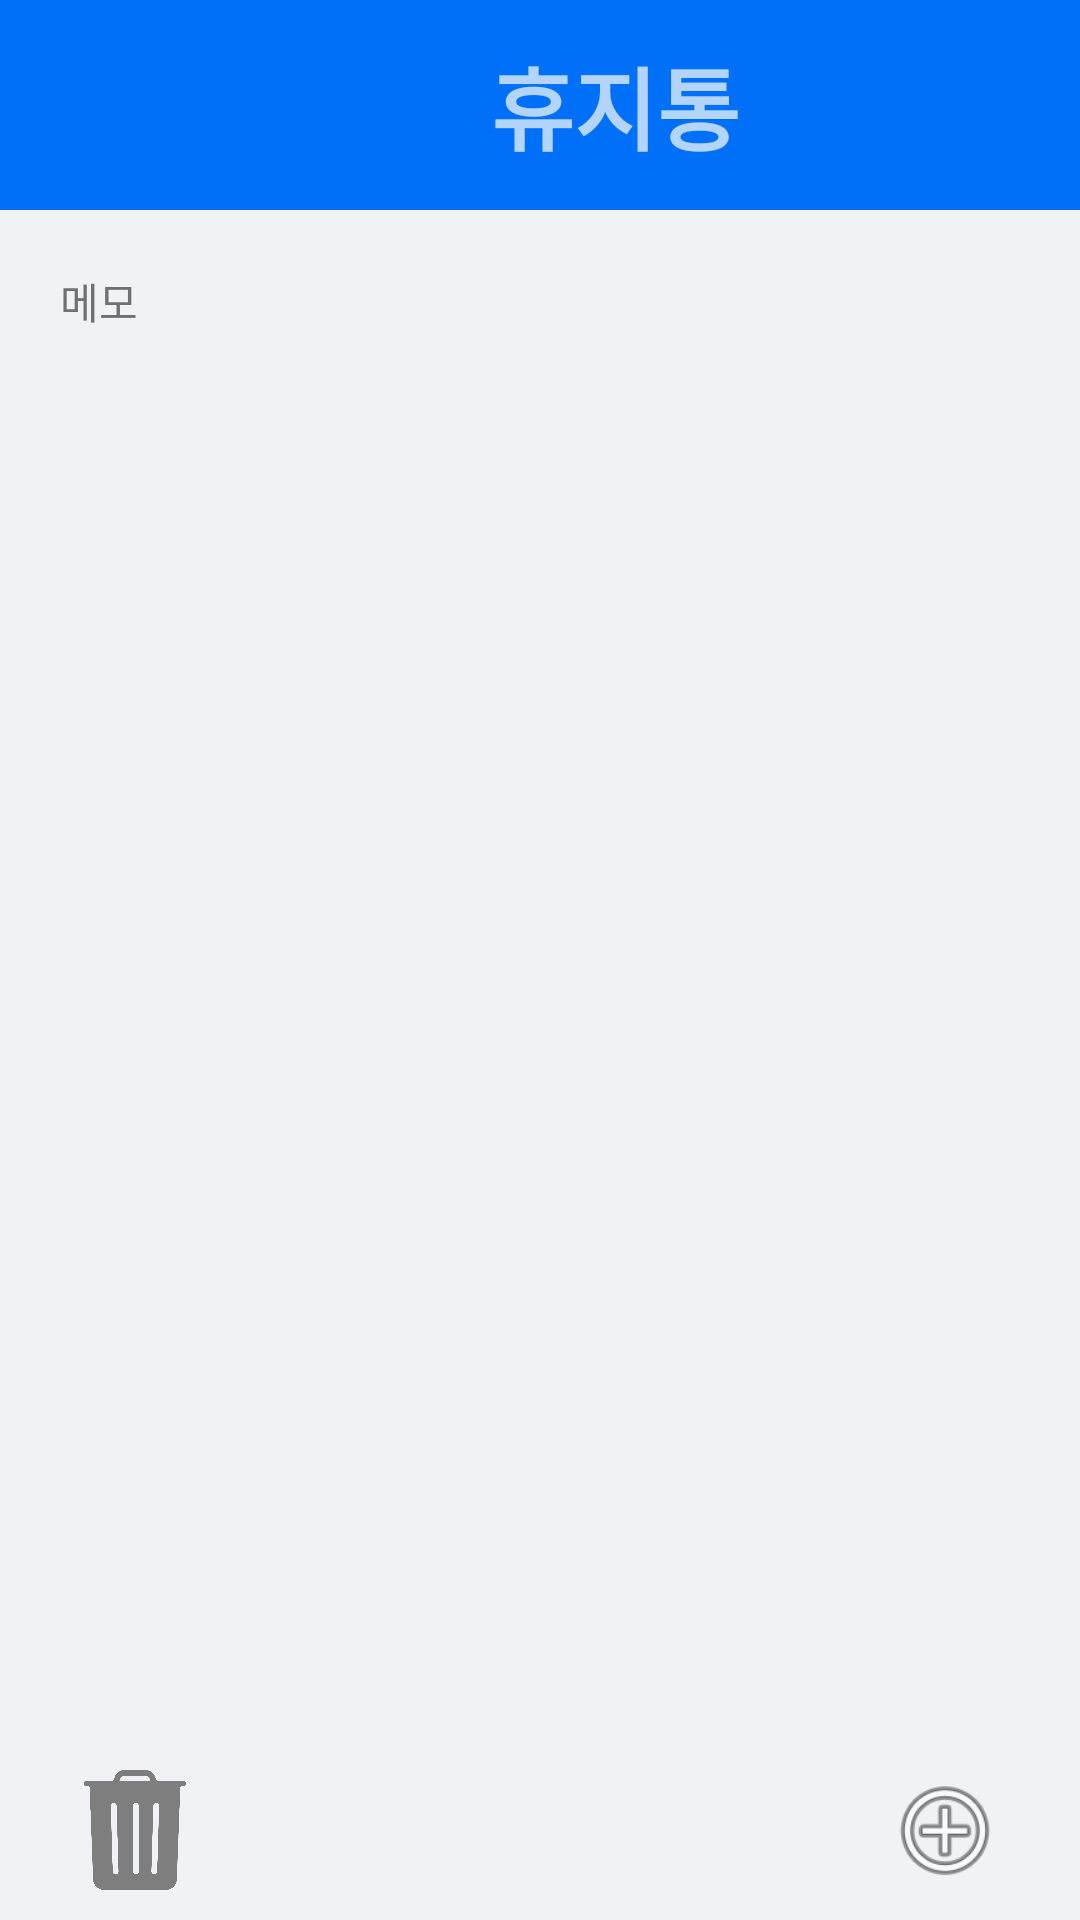

Named icons in this screenshot (1080*1920) and their centers, (x=x, y=y):
add: (x=945, y=1830)
trash: (x=135, y=1830)
